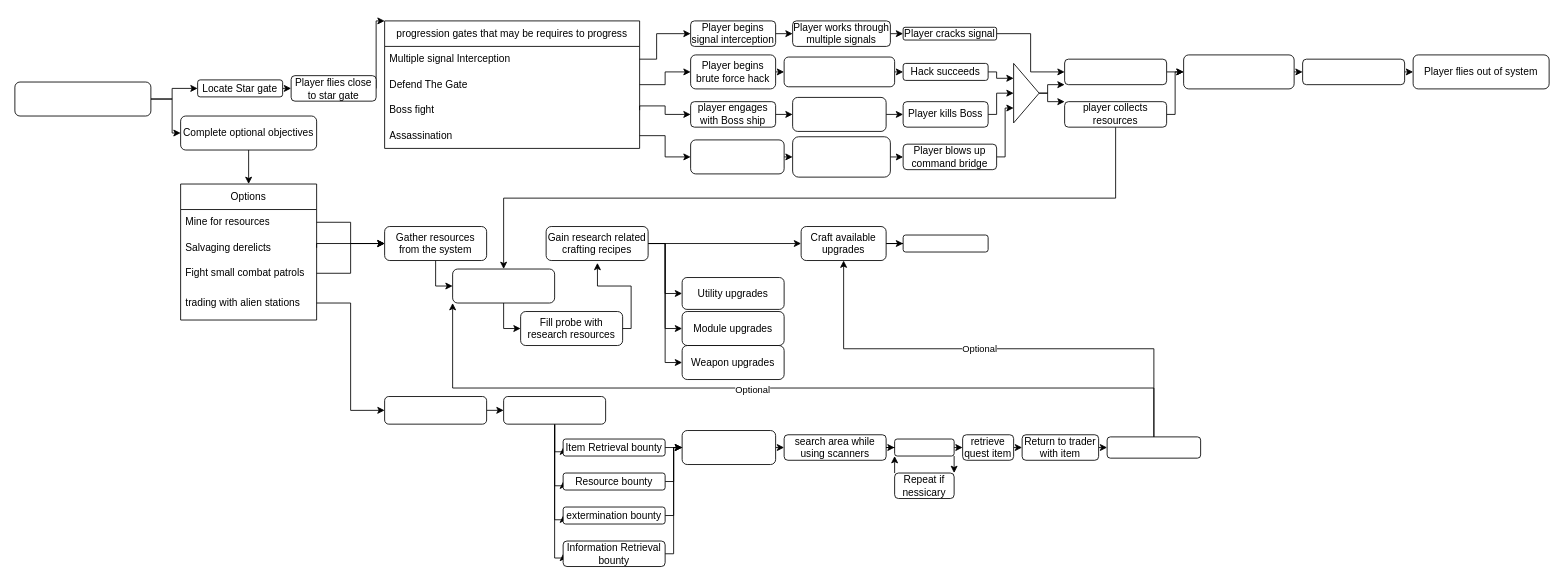
The diagram is 1564 pixels wide and 581 high, and some of its shapes have lost their labels. The box of each missing label's shape, as (x1, y1, x2, y2) in pixels:
Accept bounties: (503, 396, 606, 424)
Apply upgrades: (902, 234, 988, 252)
broadcast Signal to warp gate: (1183, 54, 1294, 89)
Fly to Warp Gate: (1302, 58, 1405, 85)
Locate Alien traders: (384, 396, 487, 424)
Manufacture probe to send to earth: (452, 268, 555, 303)
perform task: (894, 438, 954, 456)
Player defends while brute force attack works: (783, 56, 895, 87)
Player does combat with boss ship: (792, 97, 886, 131)
Player evades damage to get close to command bridge: (792, 136, 890, 177)
Player Flies into system: (14, 81, 151, 116)
player flies towards command ship: (690, 139, 784, 174)
Player picks up encryption key: (1064, 58, 1167, 85)
Trade for resources: (1106, 436, 1201, 458)
travel to last known location of item: (681, 430, 776, 465)
